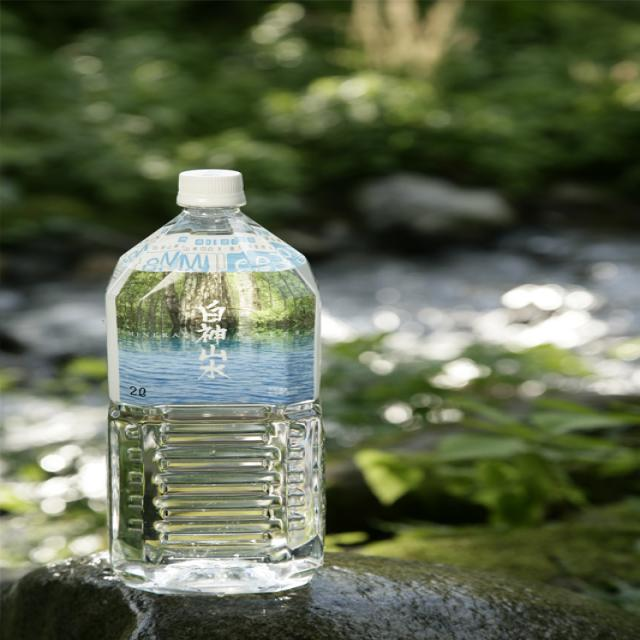plastic: (105, 168, 322, 594)
